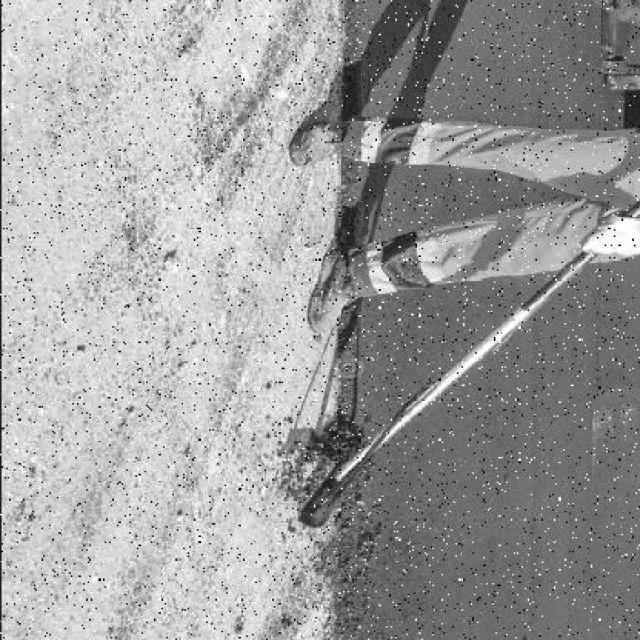shoes: (302, 253, 362, 332), (290, 112, 355, 170)
